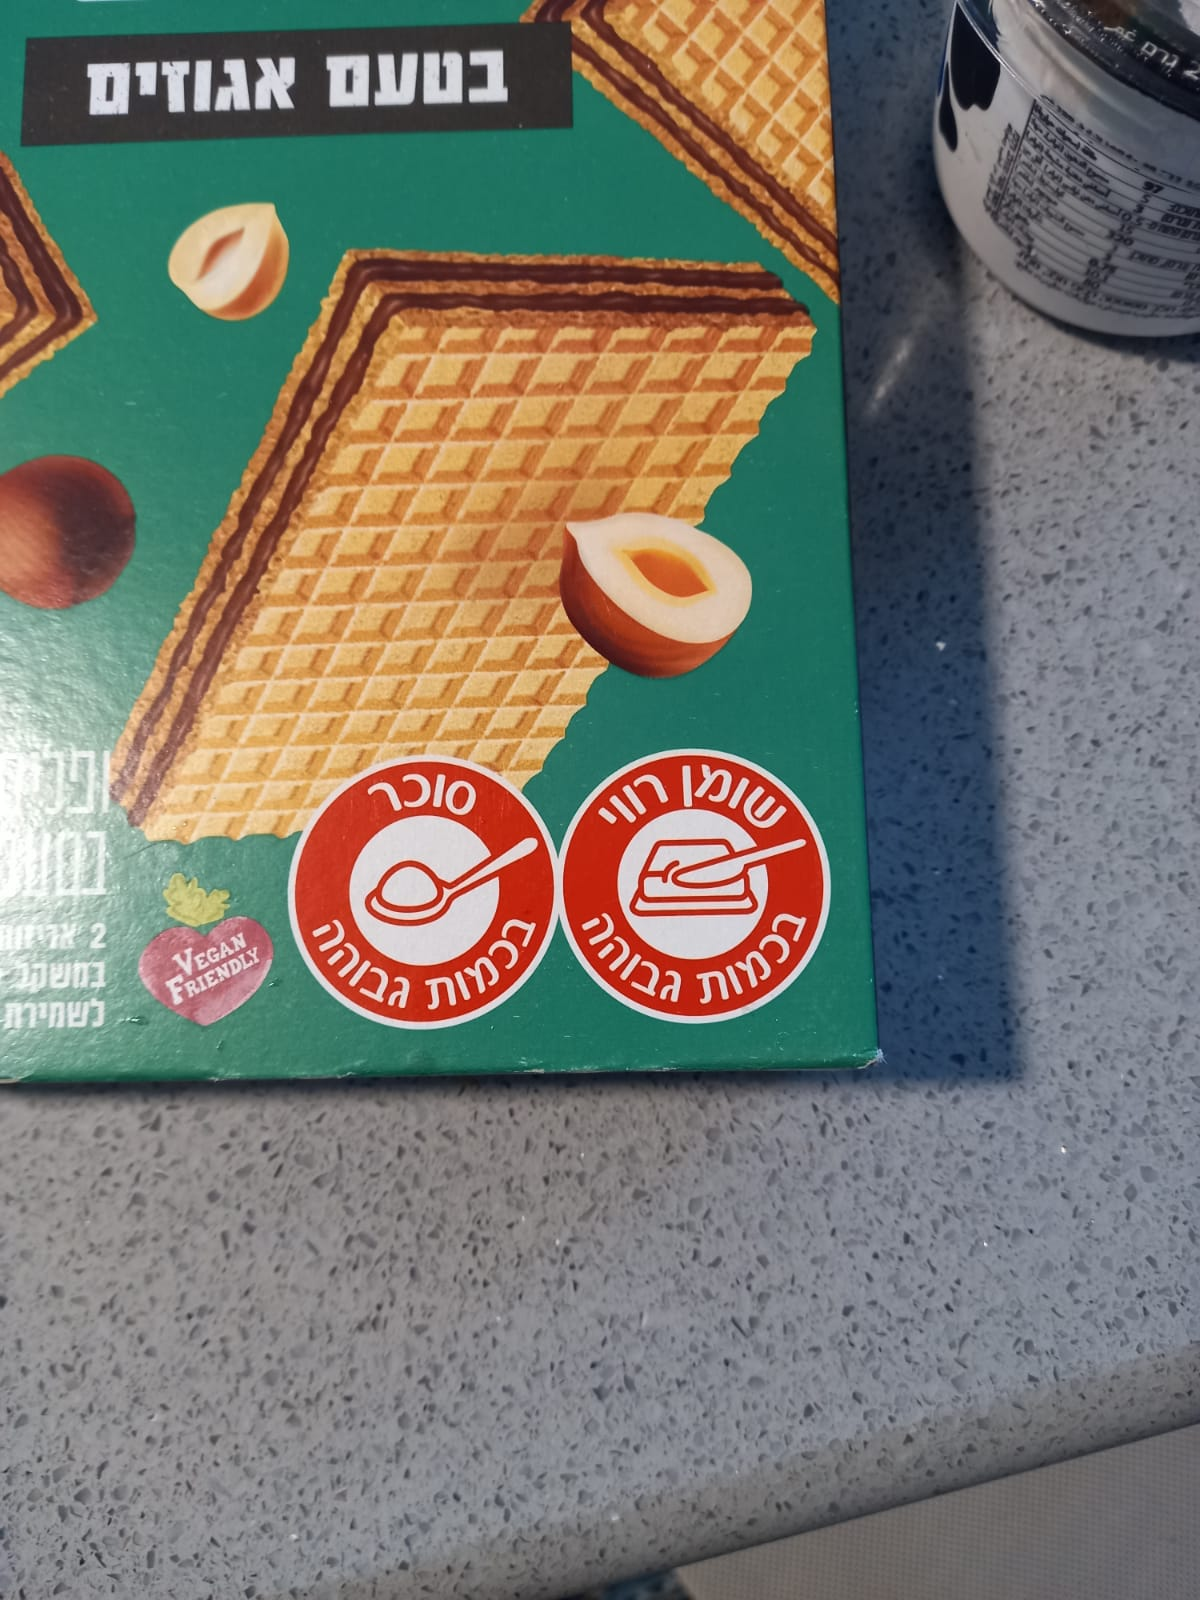fat: (561, 748, 836, 1031)
sugar: (284, 756, 566, 1031)
